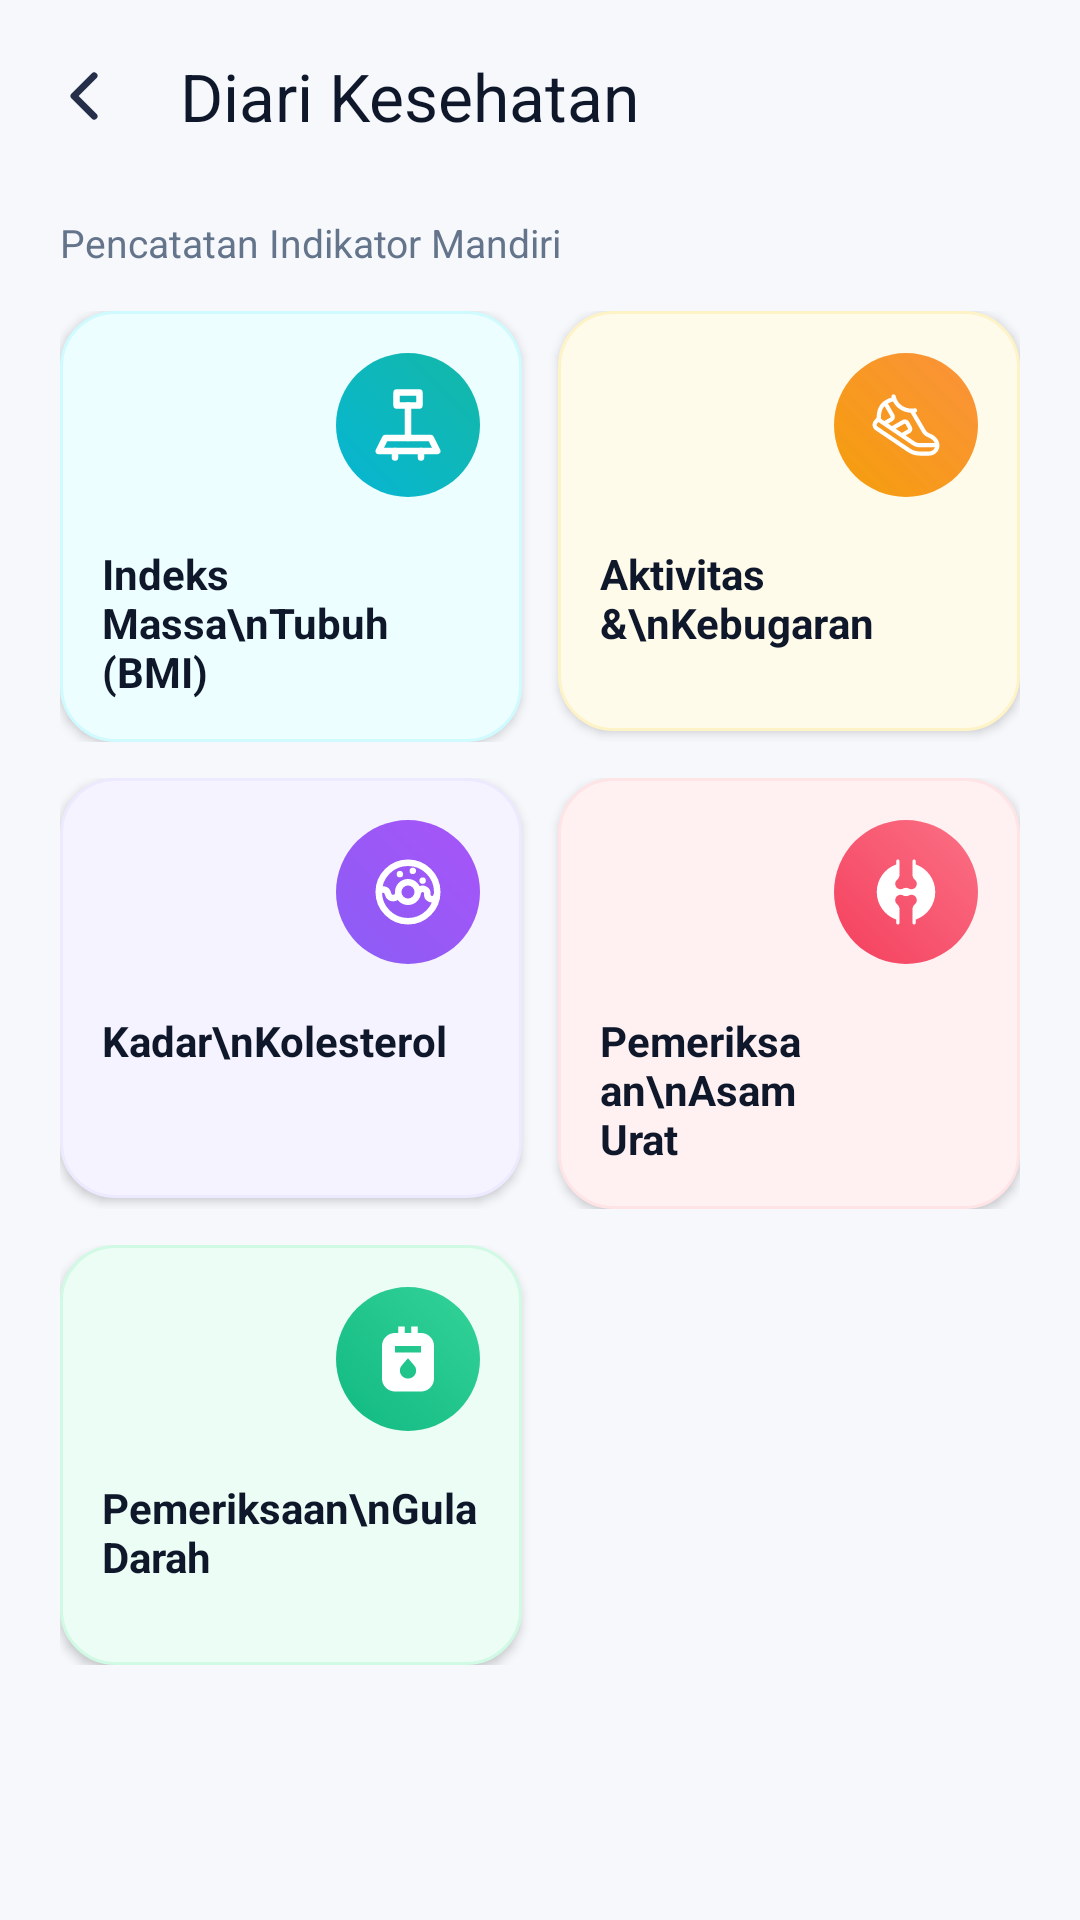

Named icons in this screenshot (1080 x 1920) and their centers, (x=x, y=y):
aktivitas fisik putih: (x=906, y=425)
asam urat putih: (x=906, y=892)
gula darah putih: (x=408, y=1359)
indeks massa tubuh: (x=408, y=425)
kolesterol putih: (x=408, y=892)
